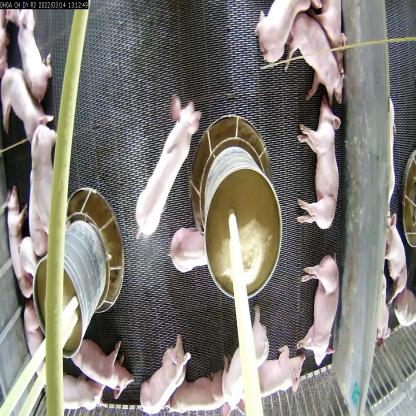Pig: (131, 89, 201, 242), (21, 122, 70, 260), (296, 103, 343, 233), (217, 303, 270, 411), (72, 325, 140, 402), (289, 12, 344, 106), (299, 249, 342, 369), (6, 7, 52, 104), (138, 330, 187, 416), (3, 186, 40, 299), (244, 344, 306, 410), (258, 0, 315, 67), (0, 66, 47, 146), (16, 304, 52, 404), (169, 372, 237, 416), (382, 206, 413, 295), (49, 370, 101, 415), (168, 221, 207, 276)
